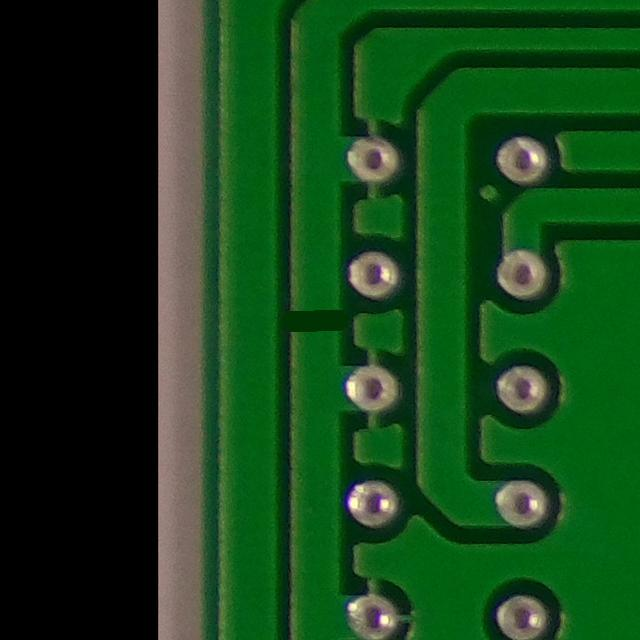open_circuit: (284, 292, 355, 348)
